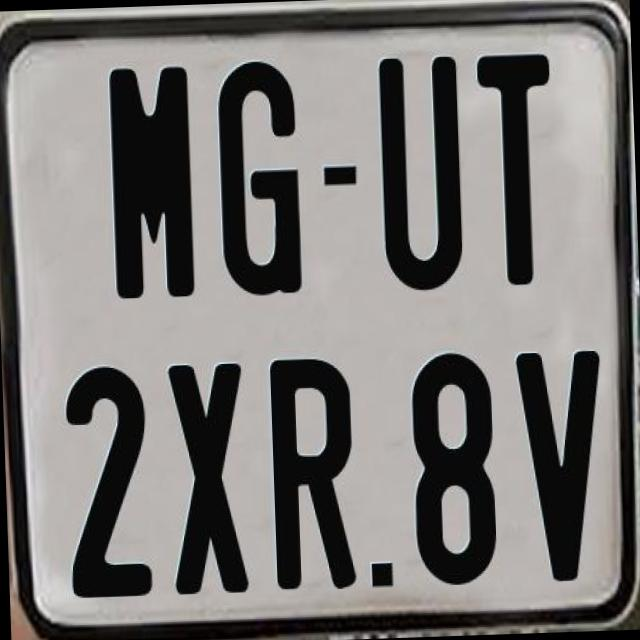2: (60, 364, 150, 598)
8: (408, 348, 500, 588)
G: (215, 59, 302, 300)
M: (108, 62, 196, 304)
R: (268, 354, 356, 594)
T: (473, 48, 558, 288)
U: (374, 51, 464, 289)
V: (514, 348, 610, 588)
X: (167, 363, 249, 594)
